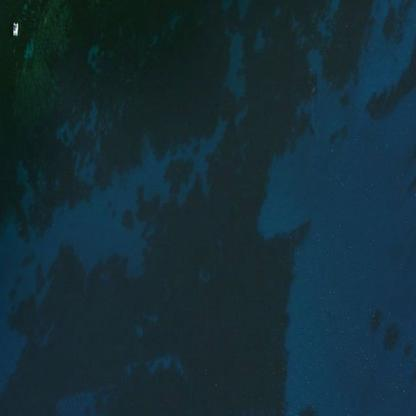ship: (7, 19, 23, 39)
